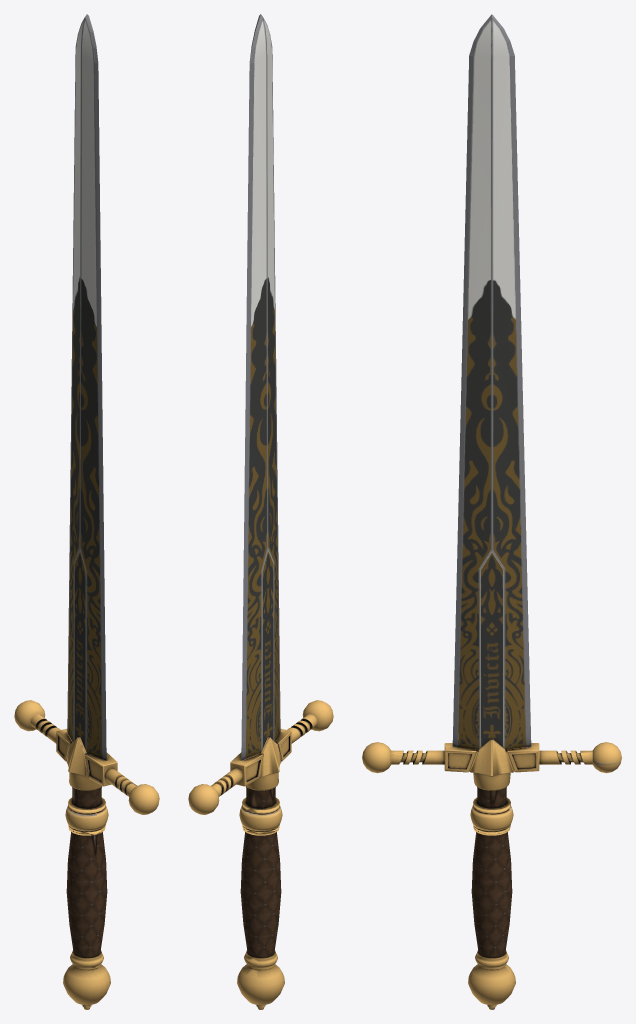
File: champions_sword.obj
The picture shows the model from 3 angles, left to right: view 1: azimuth 30°, elevation 25°; view 2: azimuth 150°, elevation 25°; view 3: azimuth 270°, elevation 25°; orthographic projection.
Parts seen in each view (by area): view 1: defaultMaterial; view 2: defaultMaterial; view 3: defaultMaterial.
Boxes of the visible parts, <box> form: defaultMaterial: <box>14,14,159,1009</box>; defaultMaterial: <box>188,14,333,1009</box>; defaultMaterial: <box>362,14,621,1009</box>.
Size of the model in its own units: 0.0643 by 1.49 by 0.3527.
